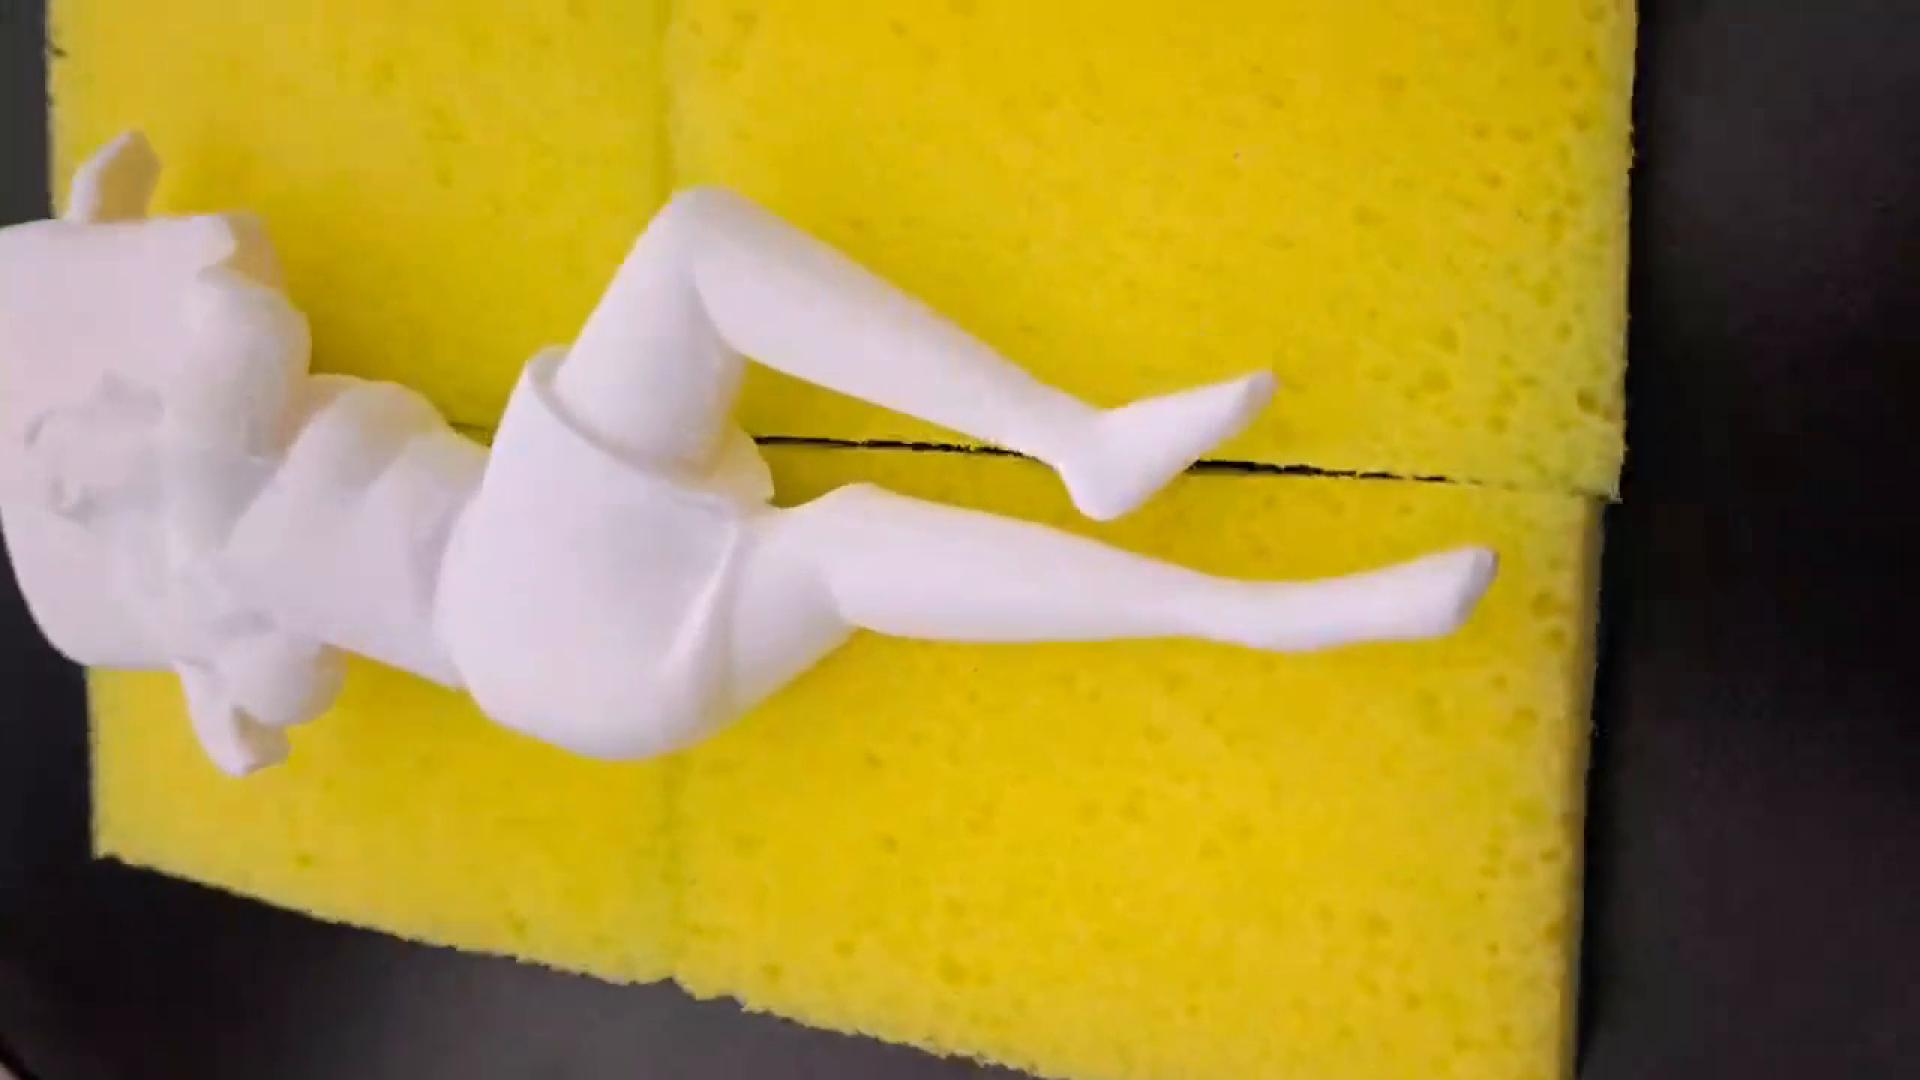Good-style: (0, 103, 1534, 840)
